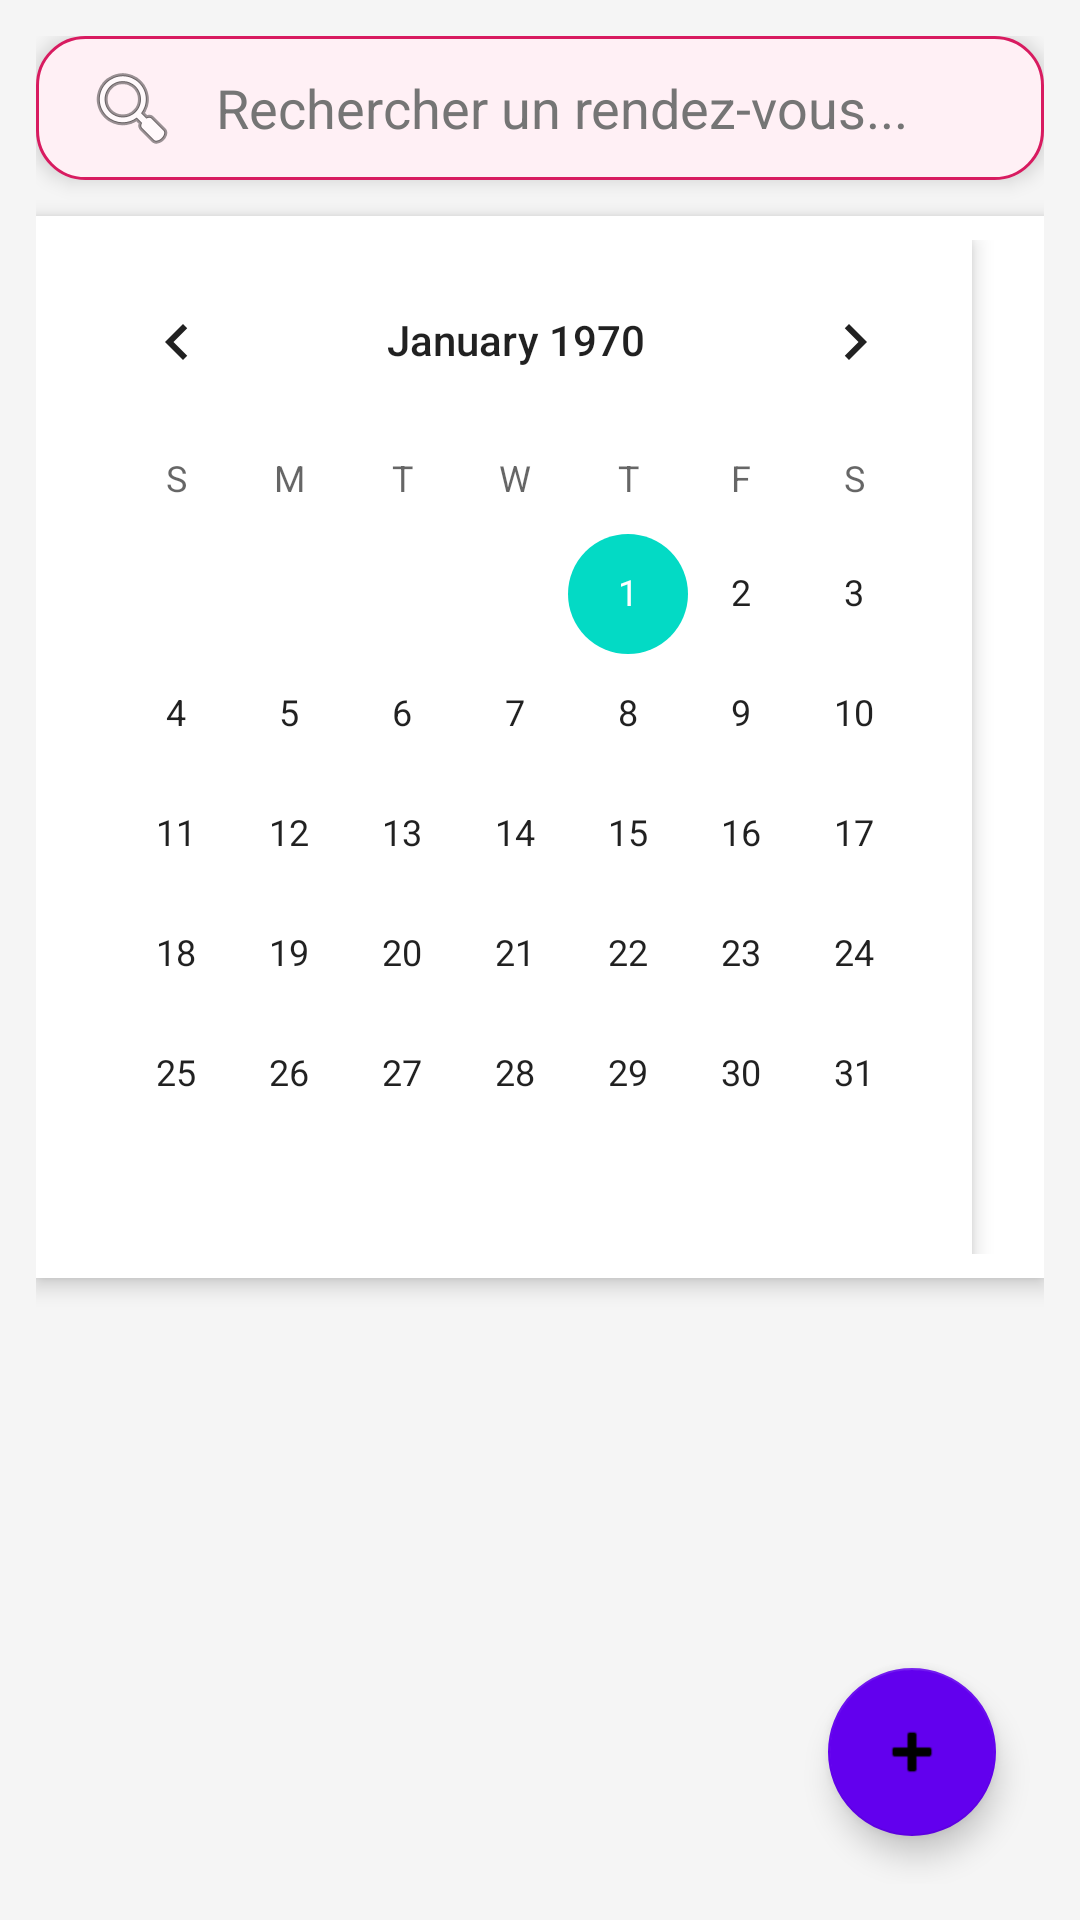

Screen size 1080 x 1920. Icon name, then its box in pixels as (x1, y1, x2, y2):
Ajouter rendez-vous: (828, 1668, 996, 1836)
